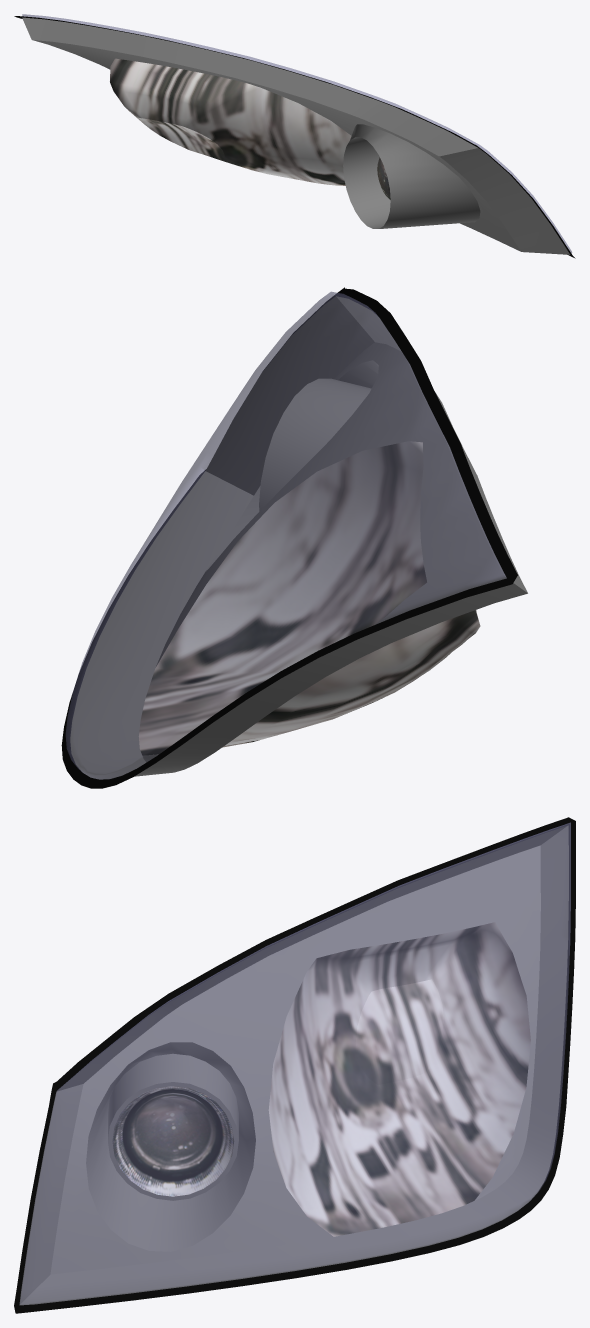
3 renders of one model, top to bottom at view 1: azimuth 30°, elevation 25°; view 2: azimuth 150°, elevation 25°; view 3: azimuth 270°, elevation 25°, orthographic. The views are drawn at different scales.
Parts seen in each view (by area): view 1: P158_061B_L_P158_061B_L_3_DaS, P158_061B_L_P158_061B_L_2_N, P158_061B_L_P158_061B_L_5_DTaSI, P158_061B_L_P158_061B_L_6_D; view 2: P158_061B_L_P158_061B_L_5_DTaSI, P158_061B_L_P158_061B_L_3_DaS, P158_061B_L_P158_061B_L_2_N, P158_061B_L_P158_061B_L_6_D; view 3: P158_061B_L_P158_061B_L_5_DTaSI, P158_061B_L_P158_061B_L_3_DaS, P158_061B_L_P158_061B_L_2_N, P158_061B_L_P158_061B_L_6_D, P158_061B_L_1_N_P158_061B_L.
Part boxes in pixels (x1,y1,x2,y2): P158_061B_L_P158_061B_L_3_DaS: (22,17,570,254); P158_061B_L_P158_061B_L_2_N: (110,58,351,185); P158_061B_L_P158_061B_L_5_DTaSI: (22,14,571,253); P158_061B_L_P158_061B_L_6_D: (14,16,575,258); P158_061B_L_P158_061B_L_5_DTaSI: (65,291,506,779); P158_061B_L_P158_061B_L_3_DaS: (70,296,527,779); P158_061B_L_P158_061B_L_2_N: (139,441,480,755); P158_061B_L_P158_061B_L_6_D: (61,287,517,788); P158_061B_L_P158_061B_L_5_DTaSI: (19,822,570,1304); P158_061B_L_P158_061B_L_3_DaS: (19,825,568,1305); P158_061B_L_P158_061B_L_2_N: (268,922,530,1236); P158_061B_L_P158_061B_L_6_D: (14,817,575,1313); P158_061B_L_1_N_P158_061B_L: (112,1086,233,1196).
Bounding box in the file's own units: 42.61 × 21 × 41.79.
